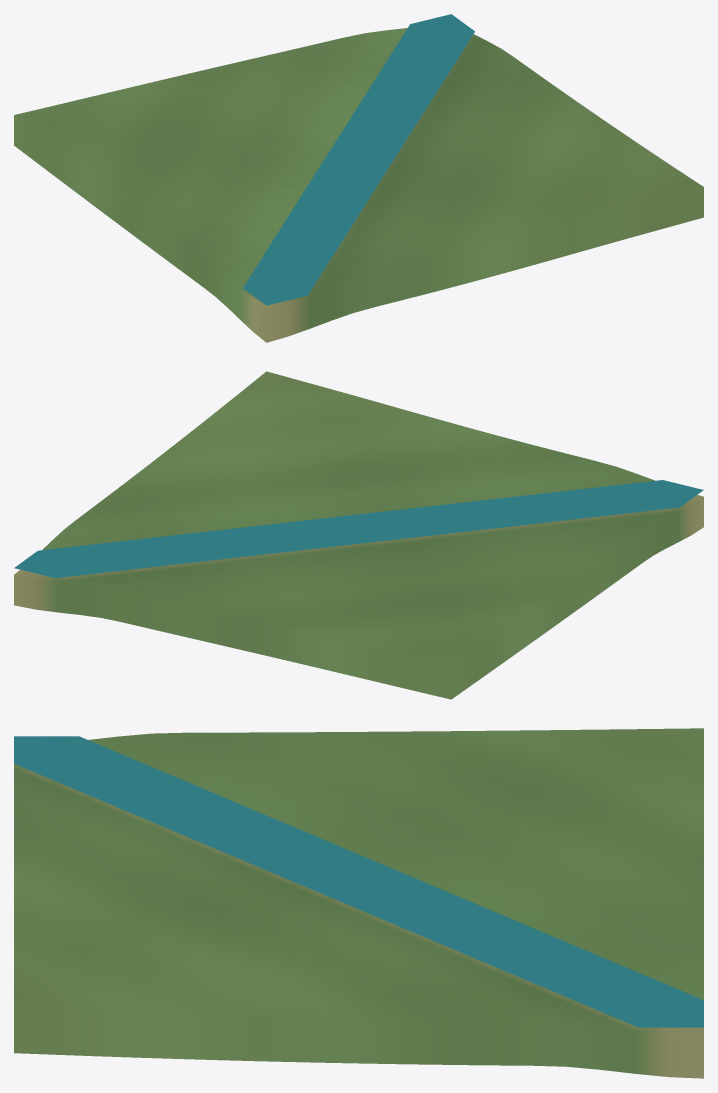
3 renders of one model, top to bottom at view 1: azimuth 30°, elevation 25°; view 2: azimuth 150°, elevation 25°; view 3: azimuth 270°, elevation 25°, orthographic. The views are drawn at different scales.
Parts seen in each view (by area): view 1: terrain, scenery; view 2: terrain, scenery; view 3: terrain, scenery.
Part boxes in pixels (x1,y1,x2,y2): terrain: (14,28,703,342); scenery: (243,14,474,305); terrain: (14,371,703,699); scenery: (14,480,703,578); terrain: (14,728,703,1078); scenery: (14,736,703,1027).
Bounding box in the file's own units: 30 × 3.22 × 30.
